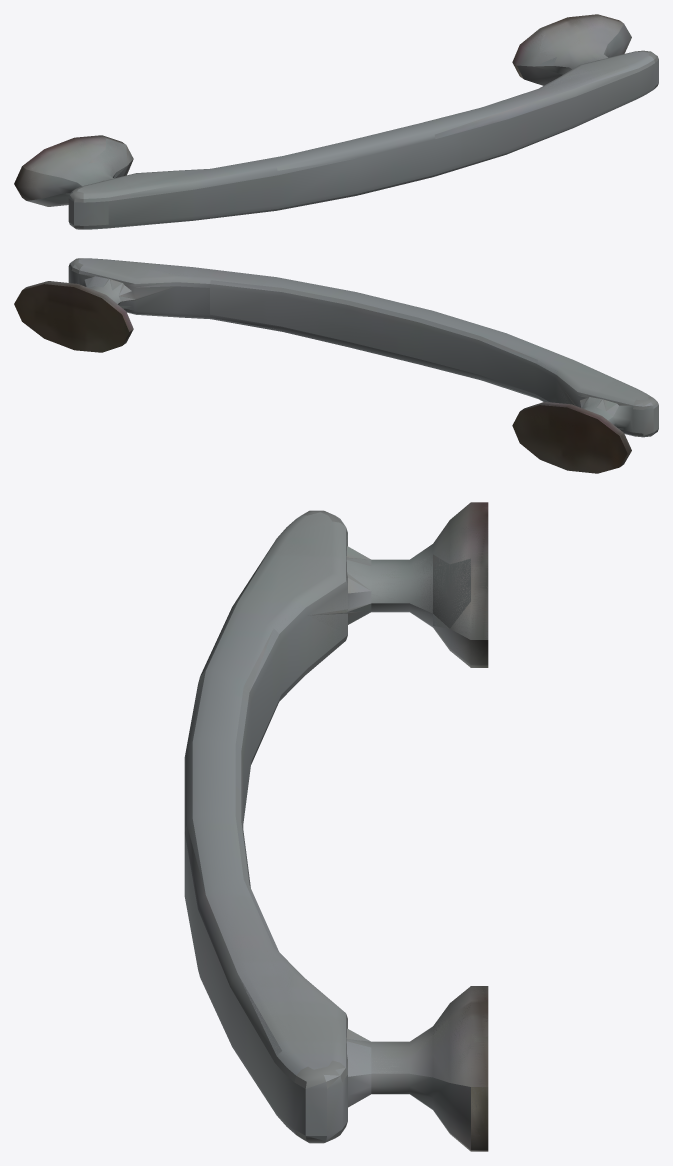
The model's file is link_6__handle-105.glb.
3 views of the same model, one above another, from view 1: azimuth 30°, elevation 25°; view 2: azimuth 150°, elevation 25°; view 3: azimuth 270°, elevation 25° (orthographic). The views are drawn at different scales.
Visible parts, largest first — view 1: world; view 2: world; view 3: world.
Boxes of the visible parts, bbox=[...] form: world: bbox=[14, 14, 658, 229]; world: bbox=[14, 258, 658, 473]; world: bbox=[184, 502, 488, 1151].
Bounding box in the file's own units: 0.0989 × 0.00972 × 0.0212.
Materials: 1 (1 with a texture image).
